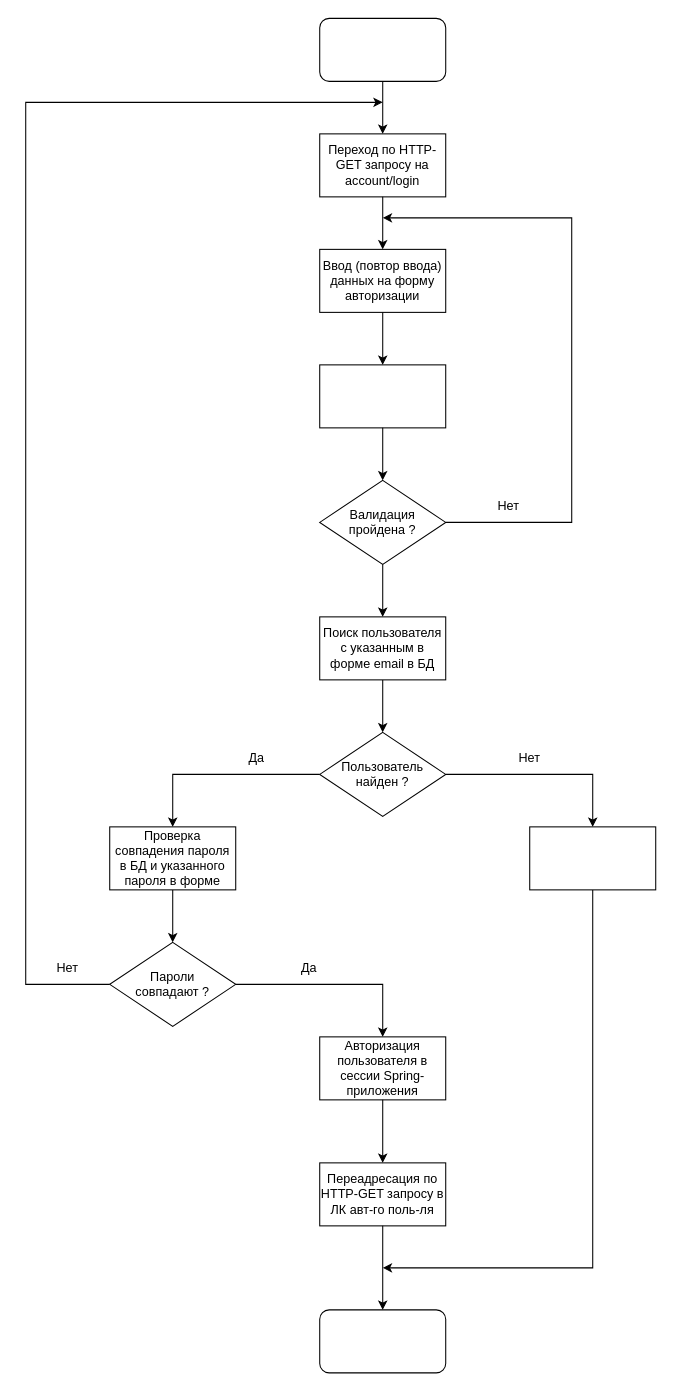
Image size: 674x1391. Some labels were removed from this diagram. The shapes that lost their labels are listed below. From the top down, each one's centre as x and y in pixels, then its label:
At (382,49): "Начало".
At (382,396): "Нажатие кнопки Войти (валидация данных)".
At (592,858): "Переадресация по HTTP-GET запросу на страницу регистрации".
At (382,1341): "Конец".
